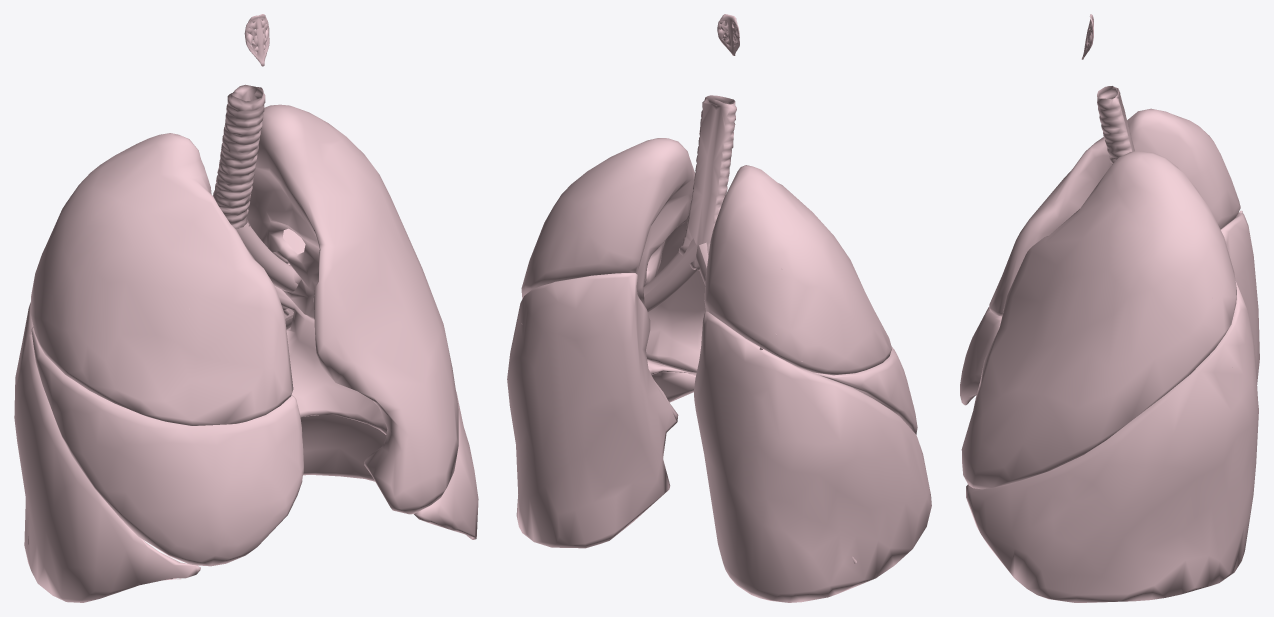
File: resp.glb
3 renders of one model, left to right at view 1: azimuth 30°, elevation 25°; view 2: azimuth 150°, elevation 25°; view 3: azimuth 270°, elevation 25°, orthographic. The views are drawn at different scales.
Visible parts, largest first — view 1: Superior lobe of right lung, Superior lobe of left lung, Middle lobe of right lung, Inferior lobe of right lung, Inferior lobe of left lung, Trachea, Left main bronchus, Epiglottis; view 2: Inferior lobe of right lung, Inferior lobe of left lung, Superior lobe of right lung, Superior lobe of left lung, Trachea, Middle lobe of right lung, Left main bronchus, Epiglottis; view 3: Superior lobe of left lung, Inferior lobe of left lung, Superior lobe of right lung, Inferior lobe of right lung, Trachea, Middle lobe of right lung.
Part boxes in pixels (x1,y1,x2,y2): Superior lobe of right lung: (30, 133, 293, 425); Superior lobe of left lung: (247, 104, 458, 514); Middle lobe of right lung: (31, 327, 303, 566); Inferior lobe of right lung: (14, 303, 200, 602); Inferior lobe of left lung: (275, 228, 478, 539); Trachea: (213, 84, 265, 228); Left main bronchus: (236, 222, 294, 289); Epiglottis: (244, 14, 269, 66); Inferior lobe of right lung: (694, 311, 931, 602); Inferior lobe of left lung: (507, 273, 695, 548); Superior lobe of right lung: (704, 165, 891, 375); Superior lobe of left lung: (521, 138, 705, 375); Trachea: (678, 95, 736, 270); Middle lobe of right lung: (802, 347, 917, 434); Left main bronchus: (643, 238, 697, 311); Epiglottis: (717, 14, 739, 55); Superior lobe of left lung: (961, 151, 1236, 489); Inferior lobe of left lung: (966, 281, 1258, 602); Superior lobe of right lung: (989, 108, 1240, 316); Inferior lobe of right lung: (1220, 212, 1259, 384); Trachea: (1097, 86, 1134, 164); Middle lobe of right lung: (960, 307, 1001, 405).
Bounding box in the file's own units: 1.83 × 2.41 × 1.3.
